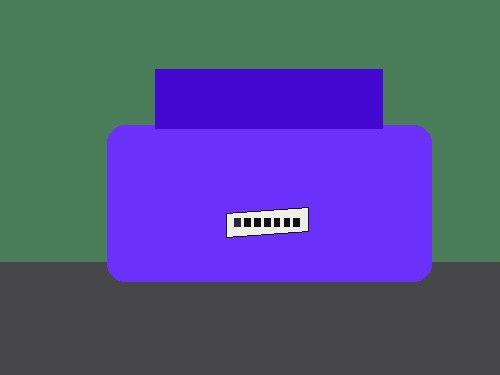licence: (227, 208, 309, 237)
